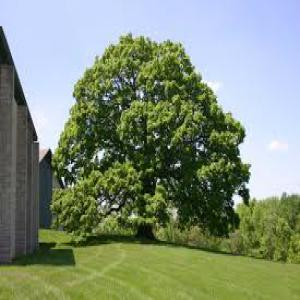Tree: (48, 28, 251, 246)
